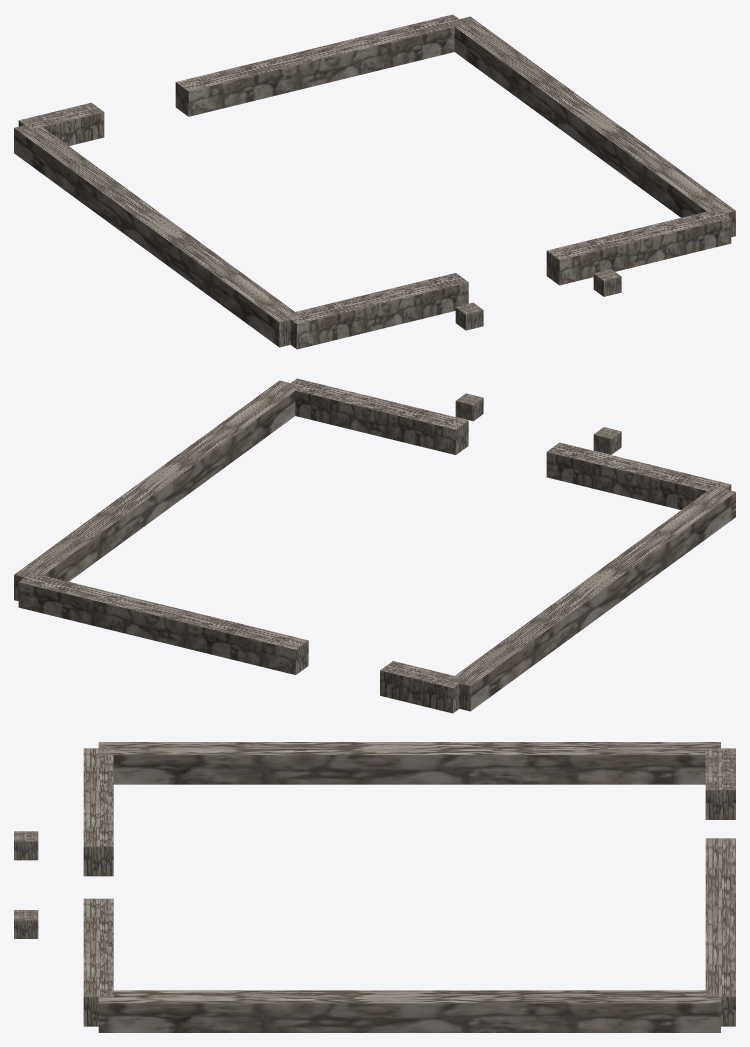
Rendered from BW_FamilyCottageB01_Foundation.fbx.
3 views of the same model, one above another, from view 1: azimuth 30°, elevation 25°; view 2: azimuth 150°, elevation 25°; view 3: azimuth 270°, elevation 25° (orthographic). The views are drawn at different scales.
Parts seen in each view (by area): view 1: BW_FamilyCottageB01_Foundation; view 2: BW_FamilyCottageB01_Foundation; view 3: BW_FamilyCottageB01_Foundation.
Part boxes in pixels (x1,y1,x2,y2): BW_FamilyCottageB01_Foundation: [14, 14, 735, 349]; BW_FamilyCottageB01_Foundation: [14, 378, 735, 713]; BW_FamilyCottageB01_Foundation: [14, 742, 735, 1032].
Size of the model in its own units: 7.15 by 0.38 by 8.36.
